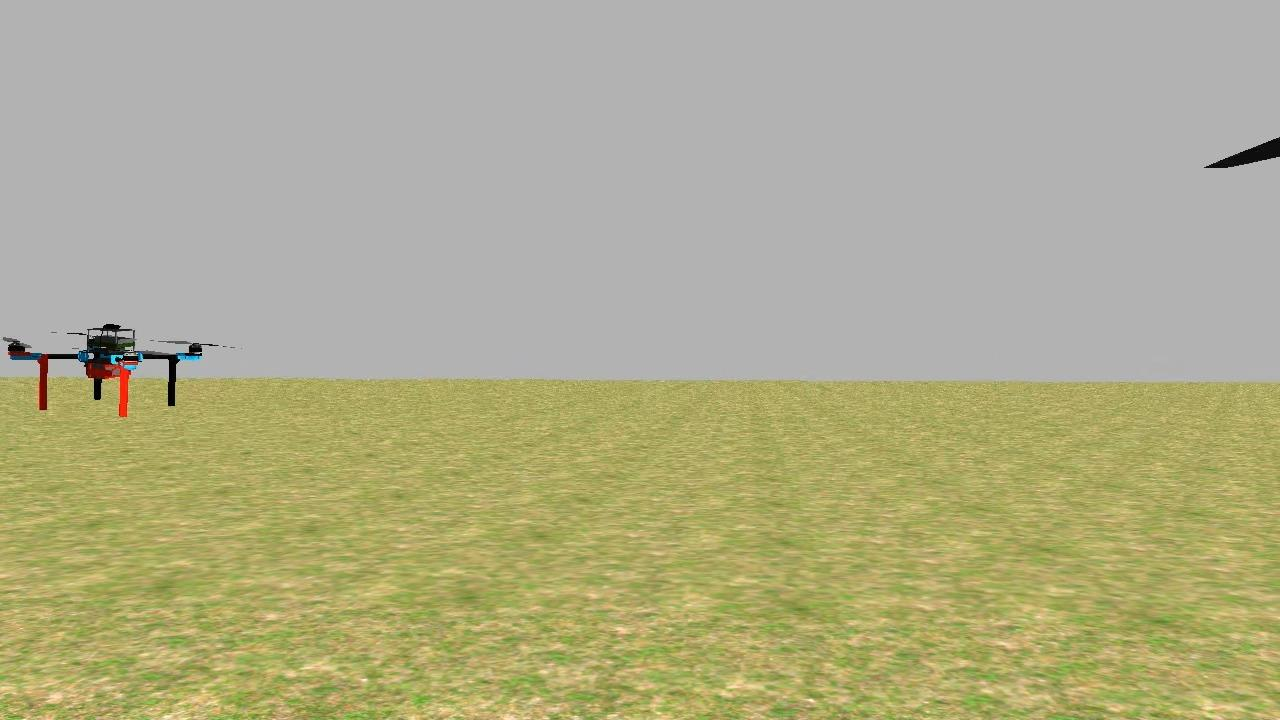UAV: (0, 308, 215, 423)
